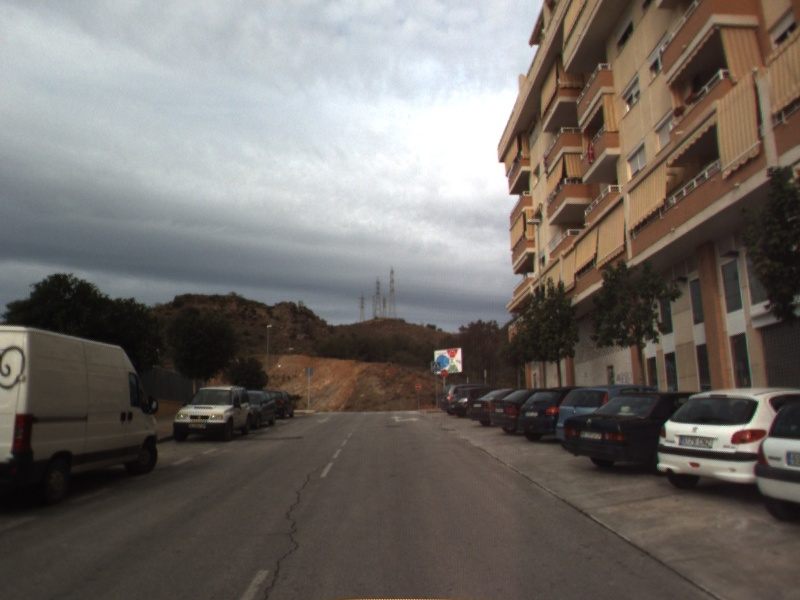STRAIGHT_RIGHT: (388, 413, 422, 424)
